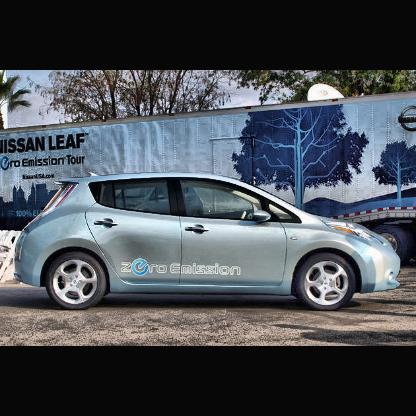Nissan Leaf Hatchback 2012: (17, 173, 403, 309)
